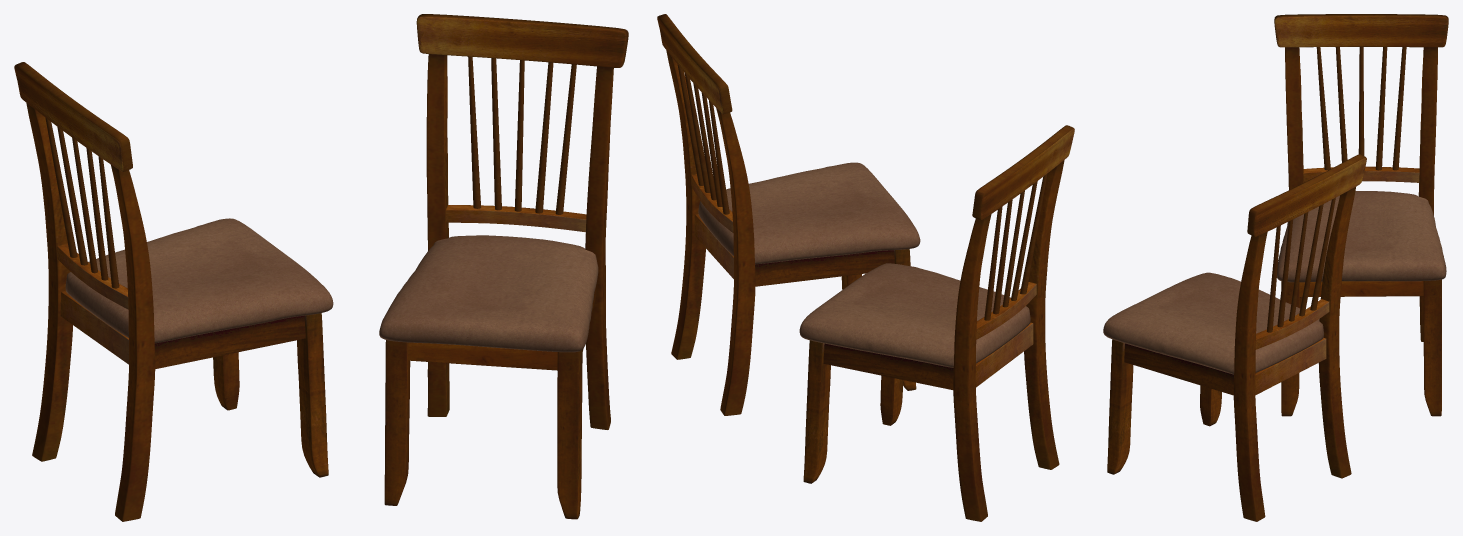
Rendered from LOON2803_v6_LOD2.obj.
The picture shows the model from 3 angles, left to right: view 1: azimuth 30°, elevation 25°; view 2: azimuth 150°, elevation 25°; view 3: azimuth 270°, elevation 25°; orthographic projection. The views are drawn at different scales.
Parts seen in each view (by area): view 1: not_clear_obj_0_v6, not_clear_obj_1_v6, not_clear_obj_2_v6; view 2: not_clear_obj_0_v6, not_clear_obj_1_v6, not_clear_obj_2_v6; view 3: not_clear_obj_0_v6, not_clear_obj_1_v6, not_clear_obj_2_v6.
Boxes of the visible parts, left/top/right/bottom form: not_clear_obj_0_v6: left=14, top=14, right=628, bottom=521; not_clear_obj_1_v6: left=65, top=218, right=598, bottom=352; not_clear_obj_2_v6: left=45, top=56, right=576, bottom=288; not_clear_obj_0_v6: left=657, top=14, right=1074, bottom=521; not_clear_obj_1_v6: left=698, top=162, right=1030, bottom=367; not_clear_obj_2_v6: left=677, top=64, right=1047, bottom=320; not_clear_obj_0_v6: left=1107, top=14, right=1448, bottom=521; not_clear_obj_1_v6: left=1103, top=191, right=1446, bottom=374; not_clear_obj_2_v6: left=1266, top=47, right=1406, bottom=332.
Size of what is drawn, in the model's own units: 130 by 97.15 by 95.53.
Materials: 3 (3 with a texture image).
